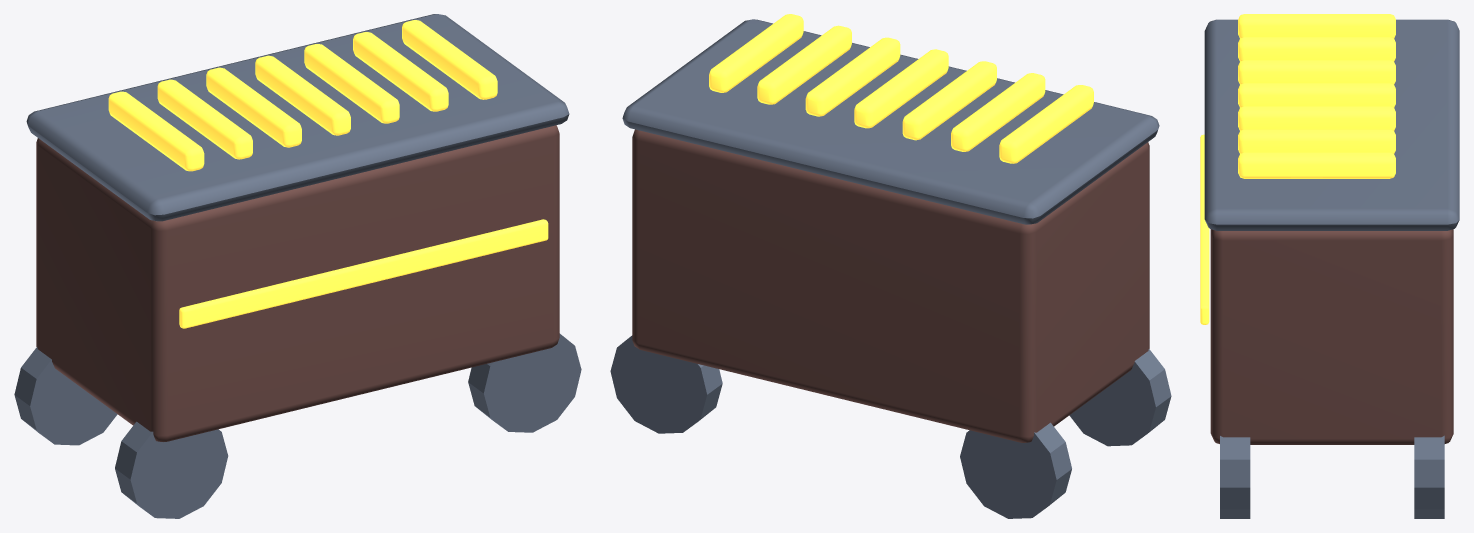
Rendered from grill_cart.glb.
The picture shows the model from 3 angles, left to right: view 1: azimuth 30°, elevation 25°; view 2: azimuth 150°, elevation 25°; view 3: azimuth 270°, elevation 25°; orthographic projection. The views are drawn at different scales.
Visible parts, largest first — view 1: Grill cart, Grill, Cart accent, Cart wheel, Cart wheel.002, Cart wheel.001, Skewer, Skewer.003, Skewer.001, Skewer.002, Skewer.004, Skewer.005 (+1 smaller); view 2: Grill cart, Grill, Cart wheel.001, Cart wheel.003, Cart wheel, Skewer.004, Skewer.002, Skewer.003, Skewer.005, Skewer.001, Skewer, Skewer.006; view 3: Grill cart, Grill, Skewer.006, Skewer.003, Skewer.001, Skewer.002, Skewer.004, Skewer.005, Skewer, Cart wheel.003, Cart wheel.002, Cart accent.
Boxes of the visible parts, <box> form: Grill cart: <box>36,125,559,442</box>; Grill: <box>26,14,569,221</box>; Cart accent: <box>179,219,548,328</box>; Cart wheel: <box>115,421,228,518</box>; Cart wheel.002: <box>468,333,581,432</box>; Cart wheel.001: <box>14,347,117,445</box>; Skewer: <box>108,91,204,171</box>; Skewer.003: <box>255,55,350,135</box>; Skewer.001: <box>157,79,252,159</box>; Skewer.002: <box>206,67,301,147</box>; Skewer.004: <box>304,44,399,123</box>; Skewer.005: <box>353,32,448,111</box>; Grill cart: <box>632,129,1149,442</box>; Grill: <box>622,19,1159,224</box>; Cart wheel.001: <box>960,422,1071,518</box>; Cart wheel.003: <box>610,335,722,433</box>; Cart wheel: <box>1069,349,1171,446</box>; Skewer.004: <box>805,37,900,116</box>; Skewer.002: <box>902,61,996,140</box>; Skewer.003: <box>854,49,948,128</box>; Skewer.005: <box>757,25,851,104</box>; Skewer.001: <box>951,73,1045,151</box>; Skewer: <box>999,85,1093,163</box>; Skewer.006: <box>709,14,803,92</box>; Grill cart: <box>1210,229,1453,444</box>; Grill: <box>1204,19,1459,230</box>; Skewer.006: <box>1238,152,1395,178</box>; Skewer.003: <box>1238,83,1395,107</box>; Skewer.001: <box>1238,37,1395,61</box>; Skewer.002: <box>1238,60,1395,84</box>; Skewer.004: <box>1238,106,1395,130</box>; Skewer.005: <box>1238,129,1395,153</box>; Skewer: <box>1238,14,1395,38</box>; Cart wheel.003: <box>1414,435,1444,518</box>; Cart wheel.002: <box>1220,436,1250,518</box>; Cart accent: <box>1200,134,1209,324</box>.
Bounding box in the file's own units: 1.66 × 1.25 × 0.855.
